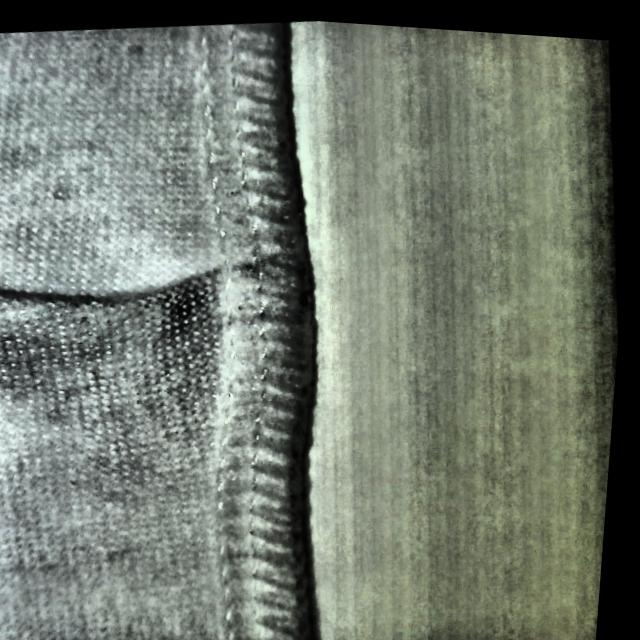seam: (21, 194, 331, 395)
